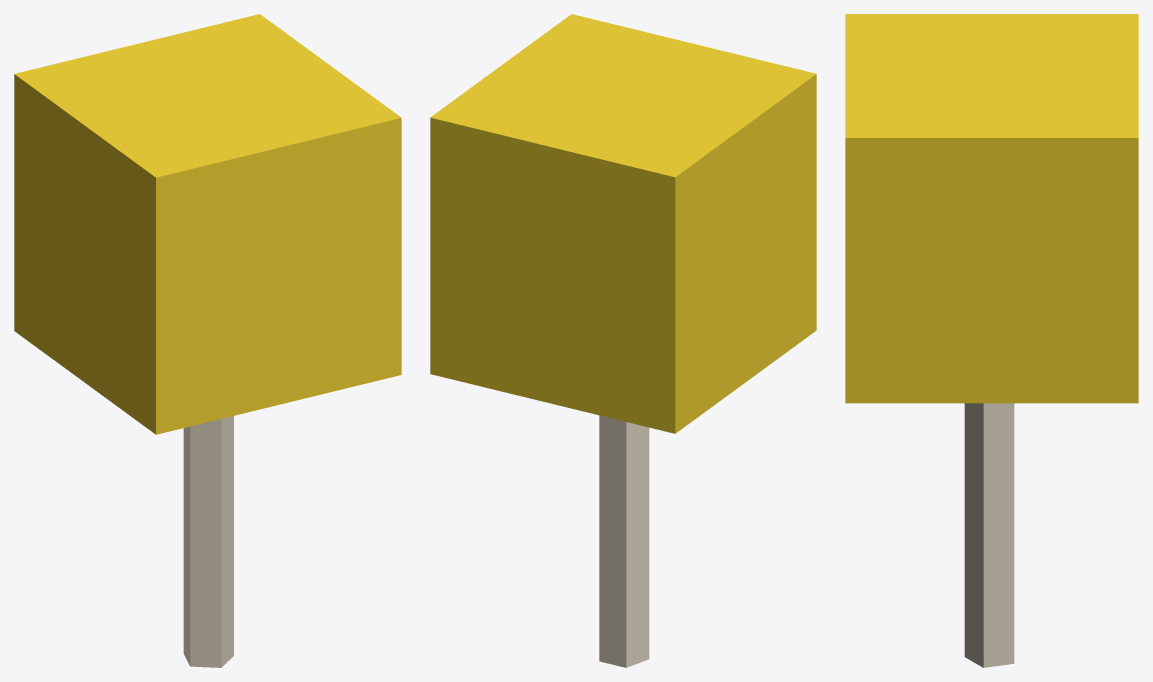
The model's file is land_tree_toy_cube_yellow.glb.
3 renders of one model, left to right at view 1: azimuth 30°, elevation 25°; view 2: azimuth 150°, elevation 25°; view 3: azimuth 270°, elevation 25°, orthographic. The views are drawn at different scales.
Size of the model in its own units: 3.2 by 7 by 3.2.
